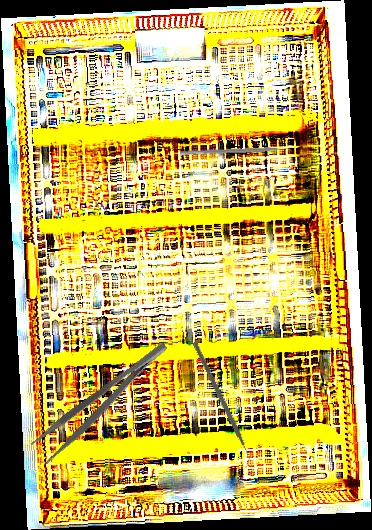Chopper: (150, 341, 290, 470)
Dressing Forceps: (28, 338, 179, 466)
Spatula Surgical: (179, 145, 293, 160)
